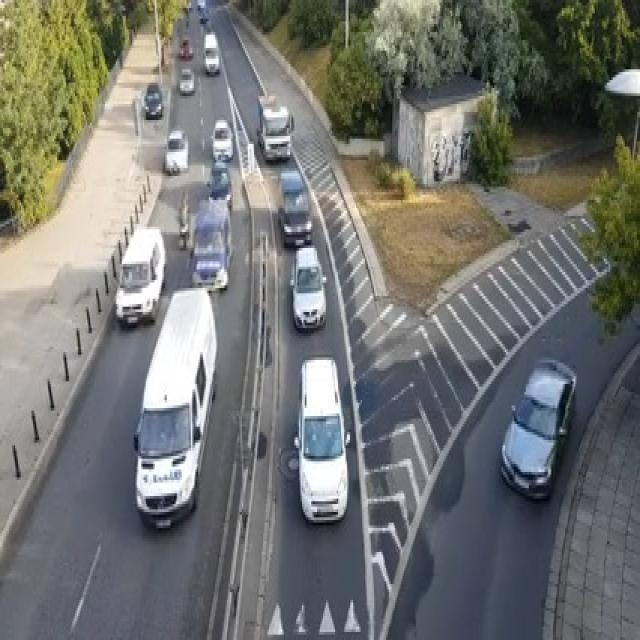bus: (132, 285, 216, 528)
car: (499, 355, 577, 501), (293, 354, 350, 522), (114, 227, 165, 328), (190, 194, 232, 290), (288, 245, 326, 331), (276, 168, 312, 245), (255, 93, 293, 163), (206, 160, 231, 211), (164, 128, 188, 173), (210, 117, 233, 160), (141, 83, 164, 117), (203, 32, 219, 75), (179, 67, 194, 93), (179, 37, 192, 59), (198, 6, 209, 22), (183, 0, 192, 13), (197, 0, 204, 11)
